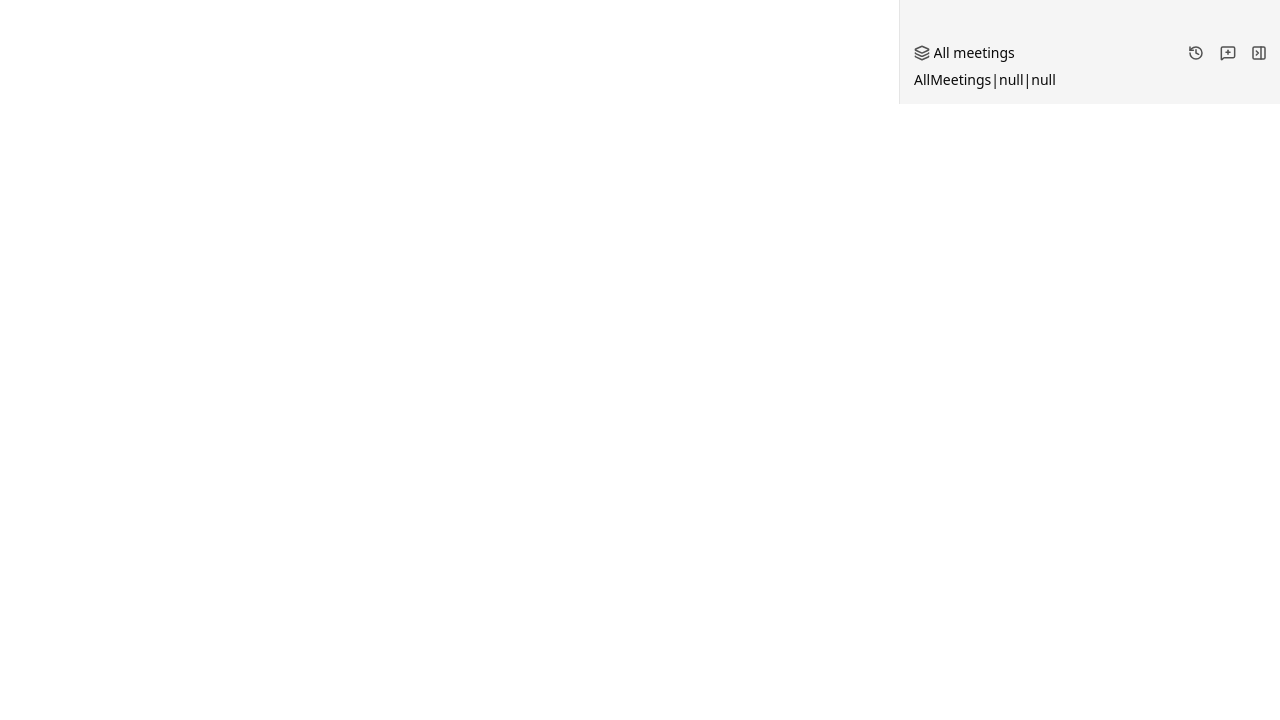
Test: AiPanel History › says there are no chats yet for an owner with none
The image size is (1280, 720).
Step 1. Click the button with test id "BtnMeetingChatHistory" → [1196, 52], box [1182,38,1210,66]
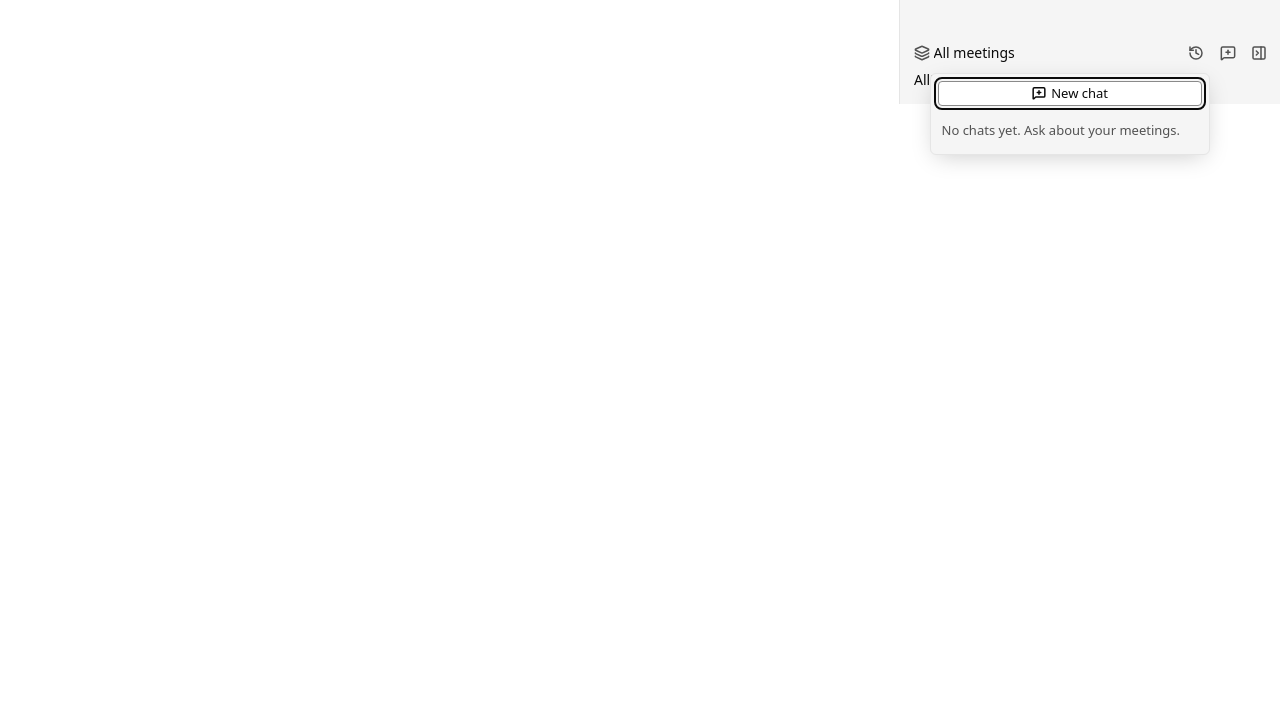
Check: the text "No chats yet. Ask about your meetings." is shown, box [942,120,1180,138]
